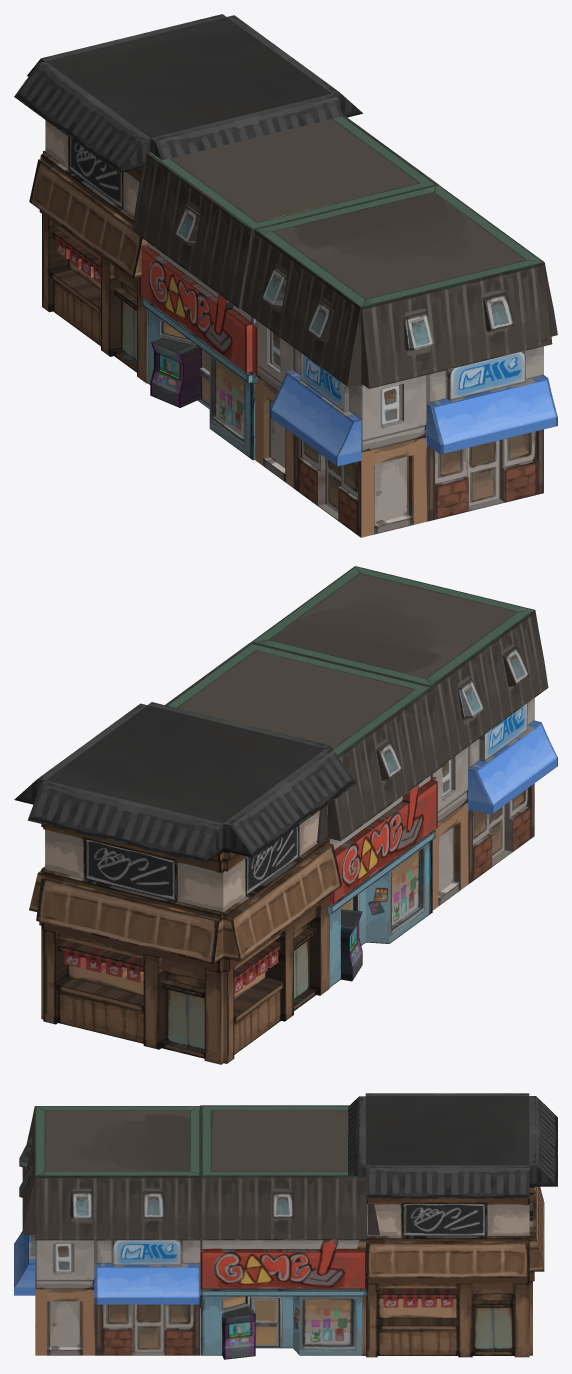
File: prediosextras.fbx
The picture shows the model from 3 angles, top to bottom: view 1: azimuth 30°, elevation 25°; view 2: azimuth 150°, elevation 25°; view 3: azimuth 270°, elevation 25°; orthographic projection. The views are drawn at different scales.
Visible parts, largest first — view 1: Mail_Texture, Restaurante_Texture, arcade_Texture; view 2: Restaurante_Texture, Mail_Texture, arcade_Texture; view 3: Restaurante_Texture, Mail_Texture, arcade_Texture.
Part boxes in pixels (x1,y1,x2,y2): Mail_Texture: (241,185,557,537); Restaurante_Texture: (14,14,362,383); arcade_Texture: (132,115,438,460); Restaurante_Texture: (14,702,356,1064); Mail_Texture: (251,566,557,910); arcade_Texture: (165,642,445,987); Restaurante_Texture: (348,1093,557,1357); Mail_Texture: (14,1106,200,1355); arcade_Texture: (200,1105,379,1359).
Size of the model in its own units: 134 by 127 by 329.
